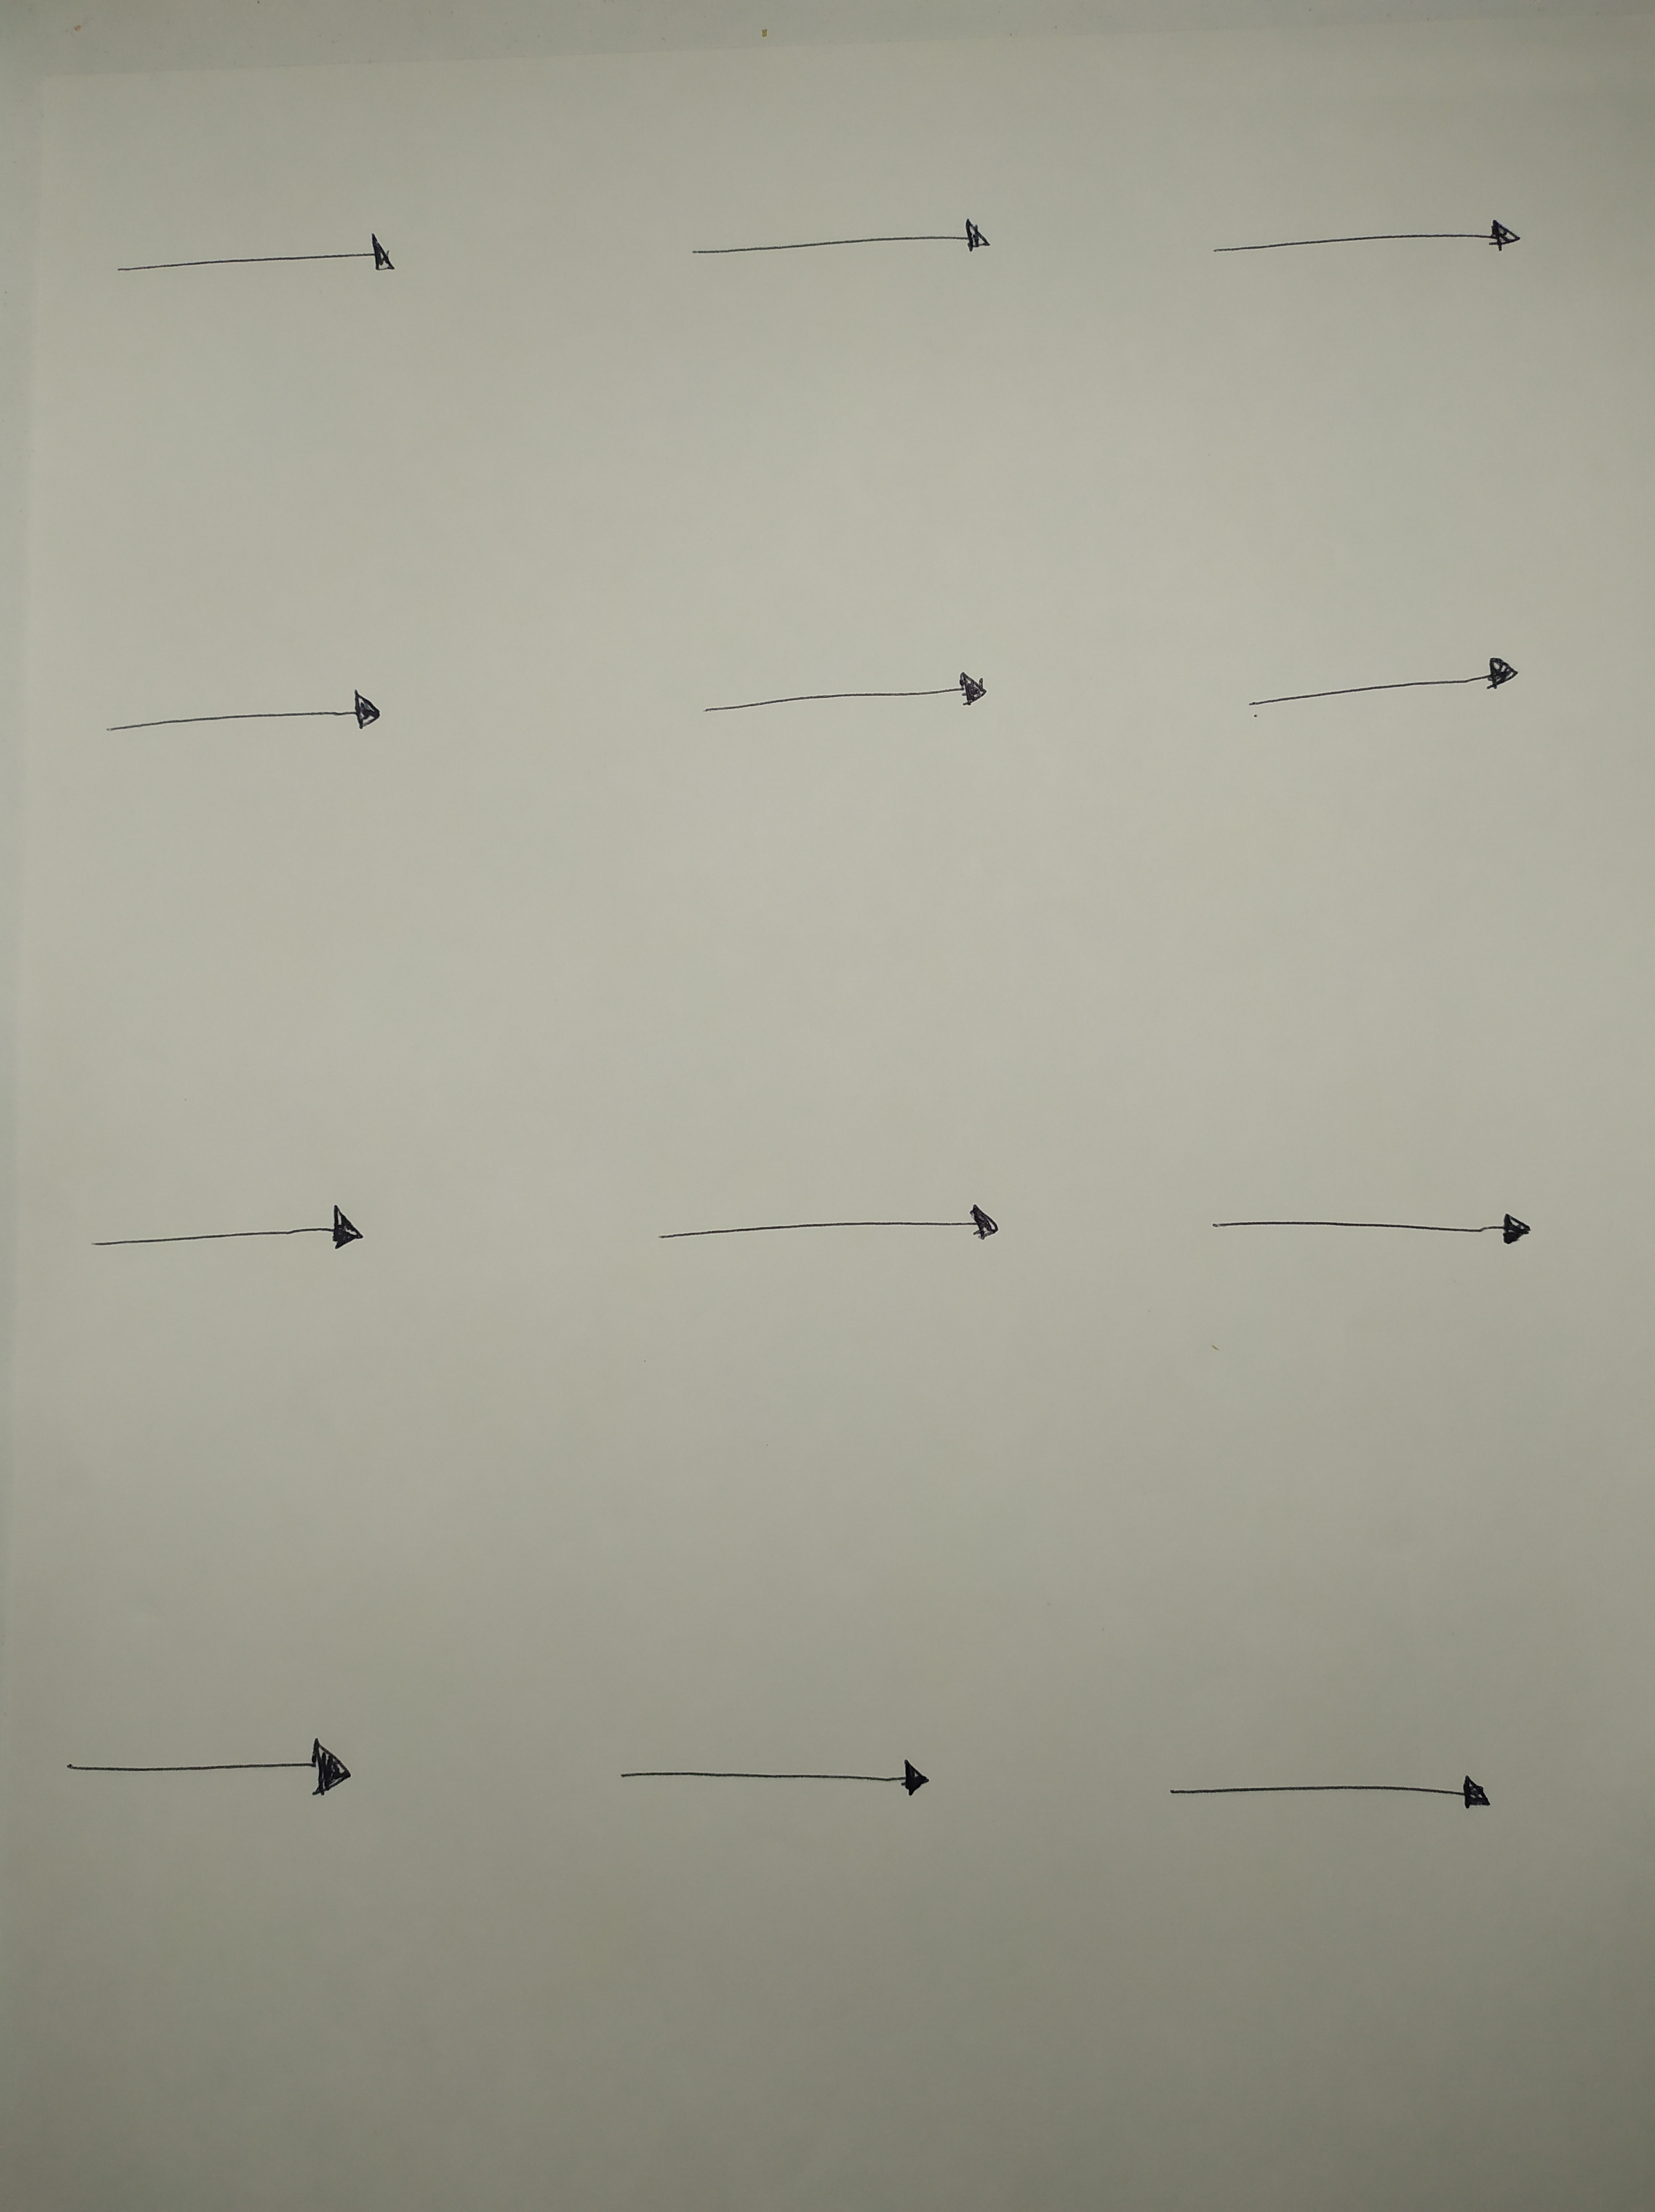arrow_line_right: (1175, 1173, 1599, 1289), (572, 1710, 972, 1826), (1193, 627, 1565, 751), (624, 1168, 1043, 1277), (668, 179, 1067, 276), (33, 1725, 407, 1826), (676, 645, 1014, 756), (1137, 1748, 1539, 1837), (1179, 186, 1547, 278), (92, 215, 415, 304), (56, 1182, 381, 1267), (83, 667, 422, 744)
